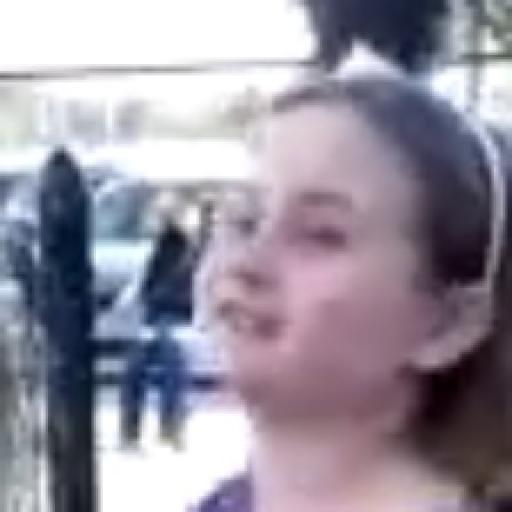Autism: (214, 88, 493, 478)
